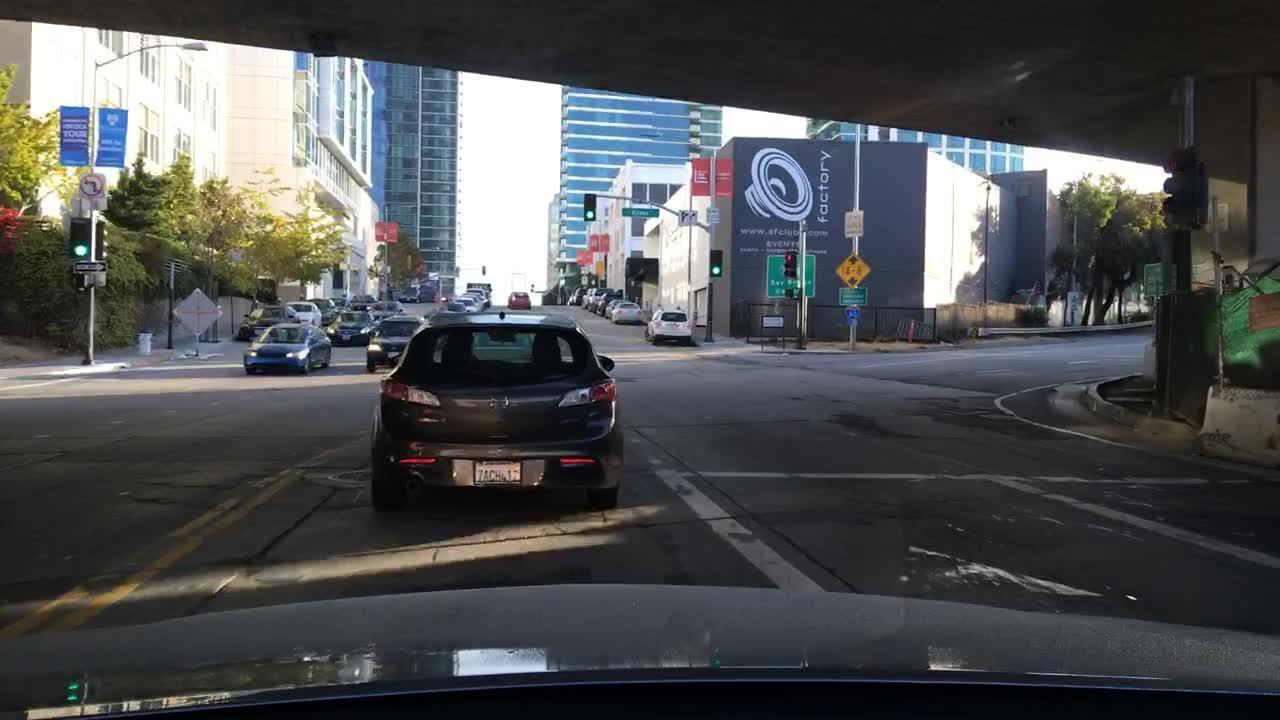Mazda: (483, 385, 516, 414)
